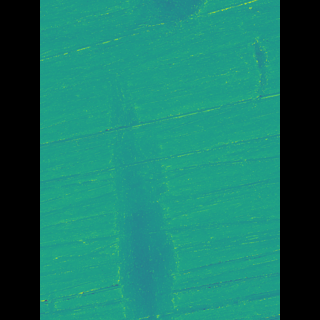Loch: (117, 72, 179, 320)
